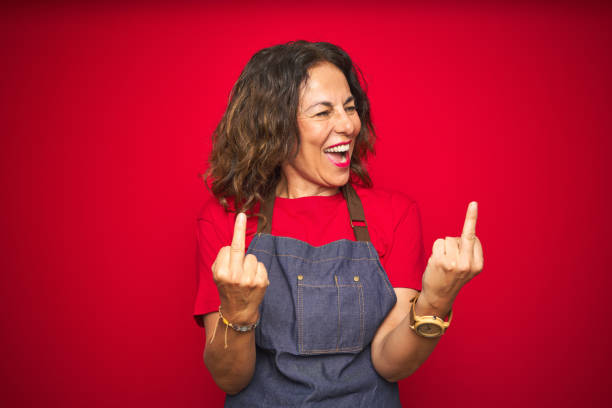insulting_gesture: (422, 199, 484, 308), (211, 212, 266, 330)
